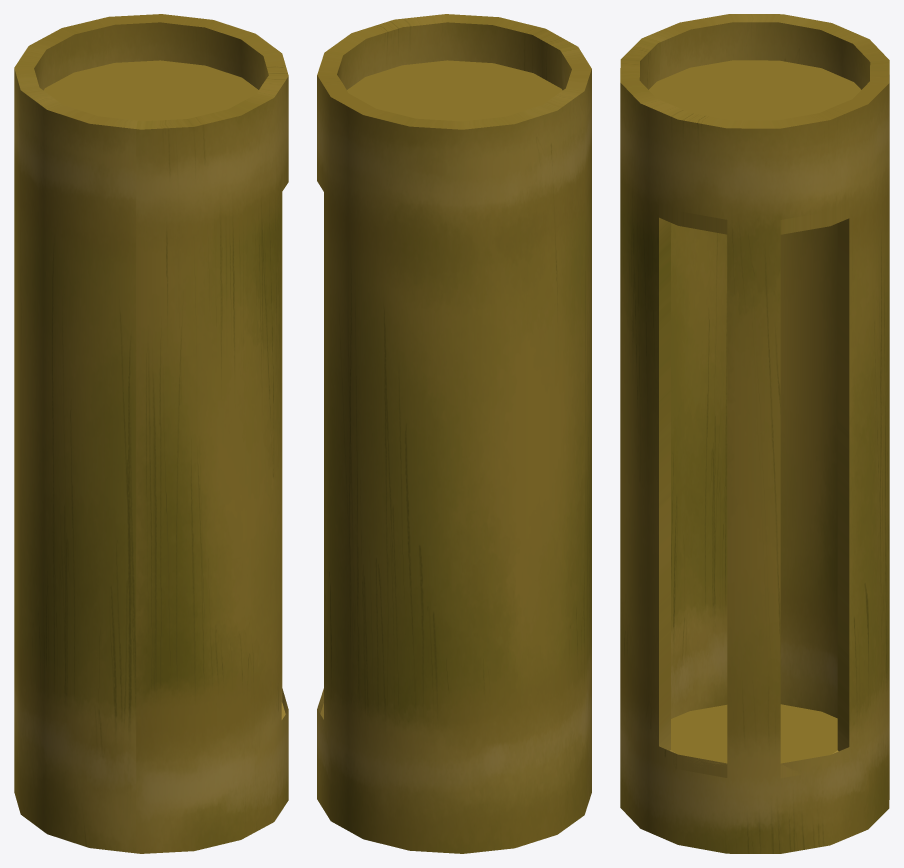
File: zev1apub6vdx-20260520023939.glb
The picture shows the model from 3 angles, left to right: view 1: azimuth 30°, elevation 25°; view 2: azimuth 150°, elevation 25°; view 3: azimuth 270°, elevation 25°; orthographic projection.
Visible parts, largest first — view 1: gedhug; view 2: gedhug; view 3: gedhug.
Boxes of the visible parts, x1=… form: gedhug: x1=14, y1=14, x2=288, y2=853; gedhug: x1=317, y1=14, x2=591, y2=853; gedhug: x1=620, y1=14, x2=889, y2=853.
Bounding box in the file's own units: 2.18 × 6.44 × 2.17.
Materials: 1 (1 with a texture image).
